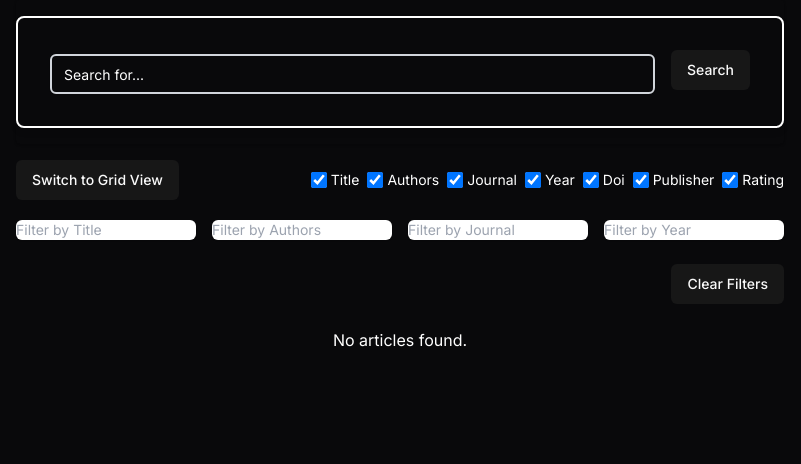
Test: SearchPage › fetches articles based on DOI input
This screenshot has width=801, height=464.
Type "10.1000/182" into the field with placeholder "Search for...". click: (352, 74)
box: top-left (50, 54), bottom-right (655, 94)
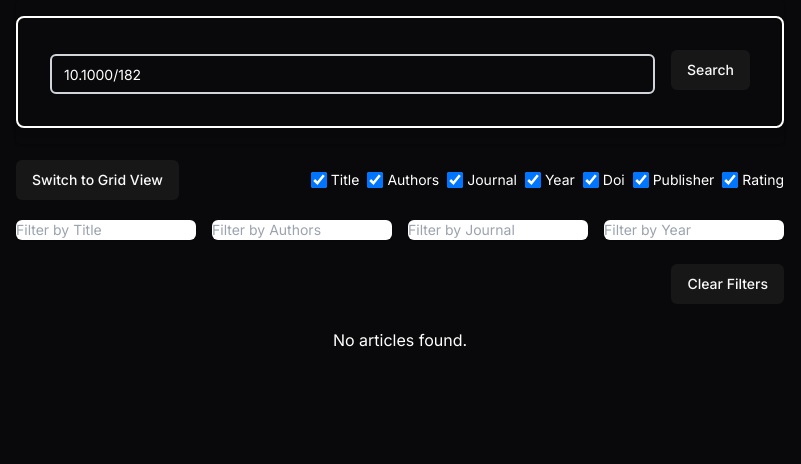
Click the button "Search". click: (710, 70)
box: top-left (671, 50), bottom-right (750, 90)
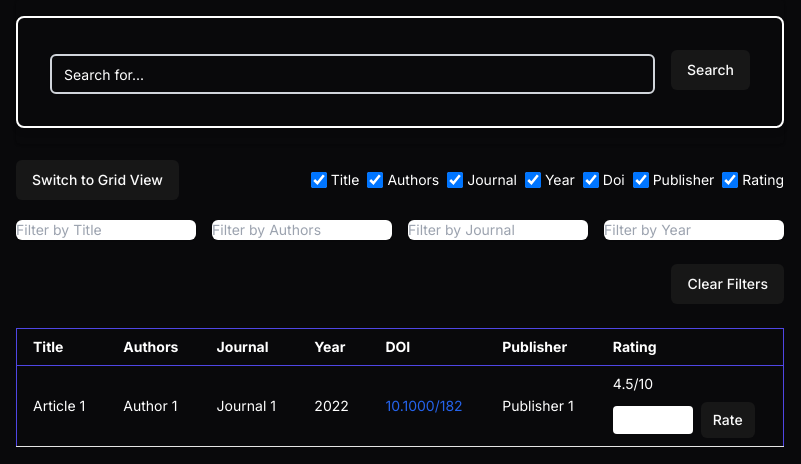
Result: the text "Article 1" is shown at top-left (16, 366), bottom-right (107, 446)
